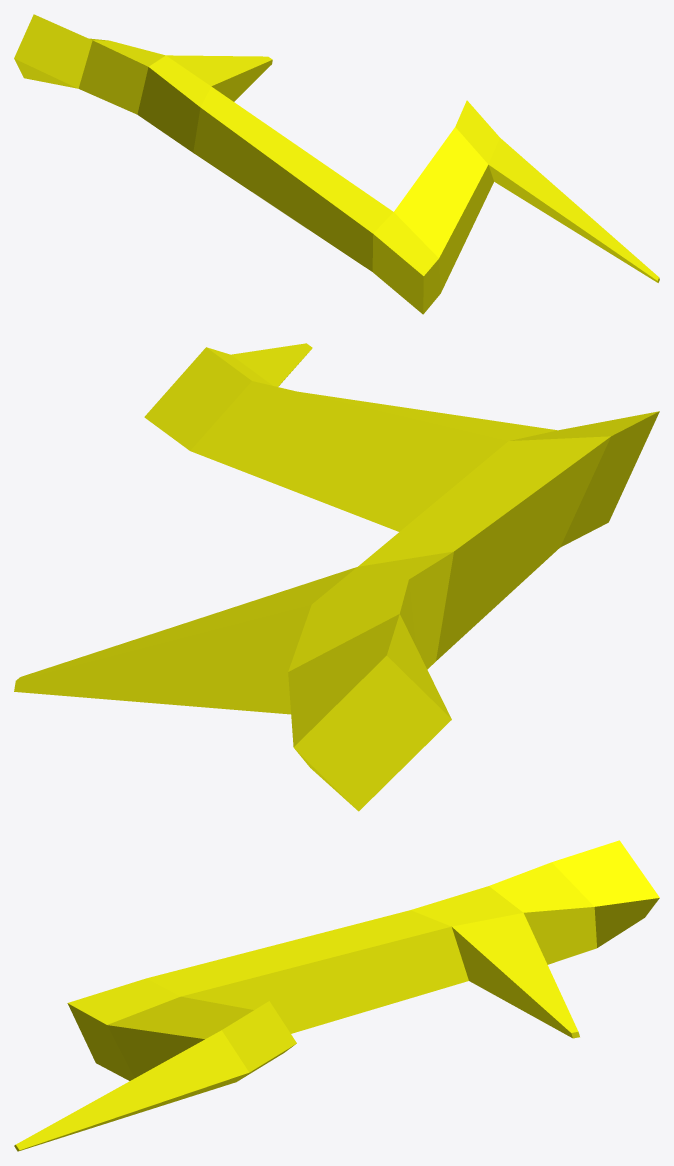
Rendered from Lightning_Bolt_Right.glb.
The picture shows the model from 3 angles, top to bottom: view 1: azimuth 30°, elevation 25°; view 2: azimuth 150°, elevation 25°; view 3: azimuth 270°, elevation 25°; orthographic projection. The views are drawn at different scales.
Parts seen in each view (by area): view 1: Lightening_Bolt.002; view 2: Lightening_Bolt.002; view 3: Lightening_Bolt.002.
Boxes of the visible parts, x1,y1,x2,y2 form: Lightening_Bolt.002: (14,14,659,314); Lightening_Bolt.002: (14,343,659,811); Lightening_Bolt.002: (14,840,659,1151).
Bounding box in the file's own units: 0.031 × 0.0124 × 0.0461.
